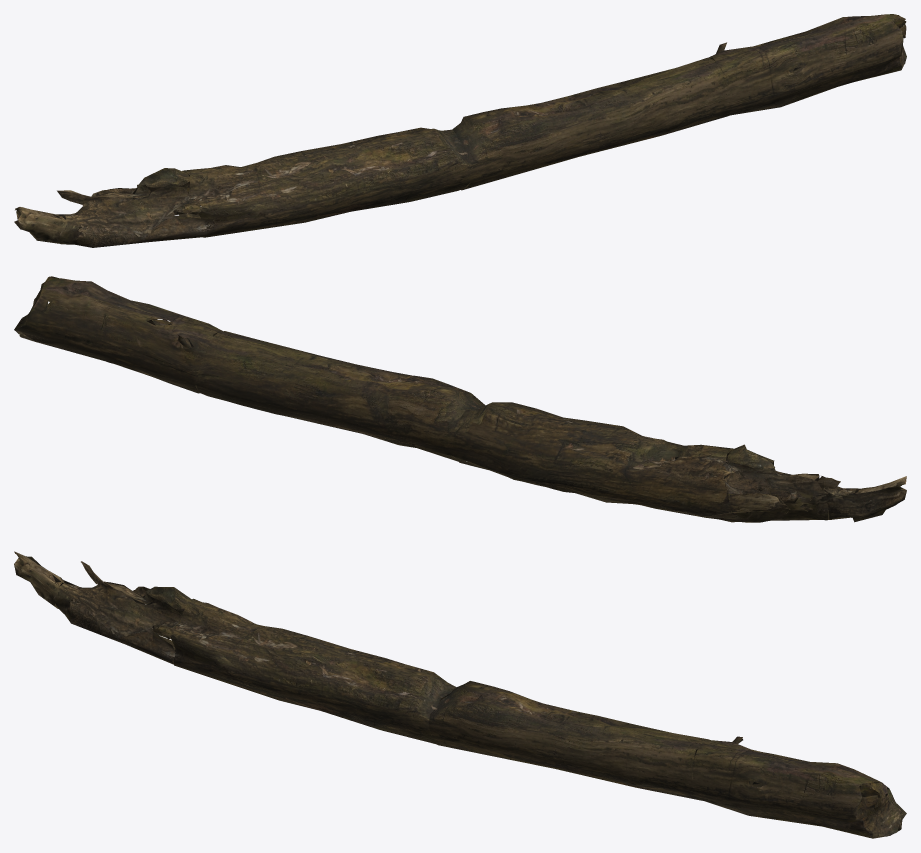
File: dead_tree_trunk_lod1.gltf
3 renders of one model, top to bottom at view 1: azimuth 30°, elevation 25°; view 2: azimuth 150°, elevation 25°; view 3: azimuth 330°, elevation 25°, orthographic.
Parts seen in each view (by area): view 1: dead_tree_trunk_lod1; view 2: dead_tree_trunk_lod1; view 3: dead_tree_trunk_lod1.
Boxes of the visible parts, x1=… form: dead_tree_trunk_lod1: x1=14, y1=14, x2=906, y2=247; dead_tree_trunk_lod1: x1=14, y1=276, x2=906, y2=522; dead_tree_trunk_lod1: x1=14, y1=551, x2=906, y2=838.
Bounding box in the file's own units: 3.05 × 0.2937 × 0.2732.
1 material, 1 textured.
